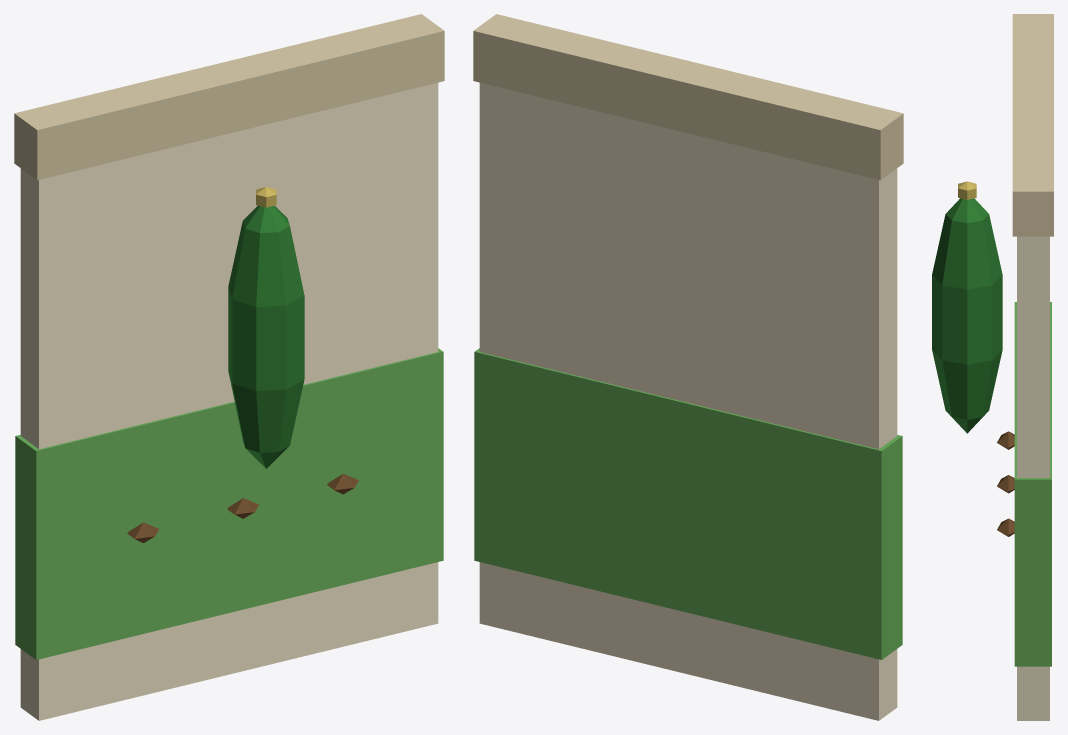
Rendered from uprawa-nasiona-ogorek.glb.
The picture shows the model from 3 angles, left to right: view 1: azimuth 30°, elevation 25°; view 2: azimuth 150°, elevation 25°; view 3: azimuth 270°, elevation 25°; orthographic projection. The views are drawn at different scales.
Visible parts, largest first — view 1: uprawa-nasiona-ogorek-0, uprawa-nasiona-ogorek-1, uprawa-nasiona-ogorek-2, uprawa-nasiona-ogorek-3; view 2: uprawa-nasiona-ogorek-0, uprawa-nasiona-ogorek-1, uprawa-nasiona-ogorek-2; view 3: uprawa-nasiona-ogorek-3, uprawa-nasiona-ogorek-0, uprawa-nasiona-ogorek-2, uprawa-nasiona-ogorek-1, uprawa-nasiona-ogorek-4, uprawa-nasiona-ogorek-5, uprawa-nasiona-ogorek-7, uprawa-nasiona-ogorek-6.
Part boxes in pixels (x1,y1,x2,y2): uprawa-nasiona-ogorek-0: (20, 82, 438, 720); uprawa-nasiona-ogorek-1: (15, 348, 443, 659); uprawa-nasiona-ogorek-2: (14, 14, 444, 180); uprawa-nasiona-ogorek-3: (228, 205, 304, 468); uprawa-nasiona-ogorek-0: (479, 82, 897, 720); uprawa-nasiona-ogorek-1: (474, 348, 902, 659); uprawa-nasiona-ogorek-2: (473, 14, 903, 180); uprawa-nasiona-ogorek-3: (932, 198, 1002, 433); uprawa-nasiona-ogorek-0: (1017, 236, 1049, 720); uprawa-nasiona-ogorek-2: (1012, 14, 1053, 236); uprawa-nasiona-ogorek-1: (1014, 302, 1051, 666); uprawa-nasiona-ogorek-4: (958, 181, 976, 199); uprawa-nasiona-ogorek-5: (997, 431, 1014, 449); uprawa-nasiona-ogorek-7: (997, 518, 1014, 536); uprawa-nasiona-ogorek-6: (997, 475, 1014, 493).
Size of the model in its own units: 1.02 by 1.42 by 0.2956.
